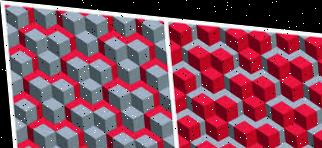cube: (113, 54, 142, 81), (75, 76, 103, 103), (187, 41, 212, 69), (67, 103, 93, 129), (106, 81, 130, 109), (213, 91, 238, 117), (228, 68, 253, 94), (232, 116, 256, 143), (270, 97, 295, 122), (37, 50, 61, 76), (38, 96, 62, 122), (266, 49, 290, 75), (109, 129, 133, 148)
